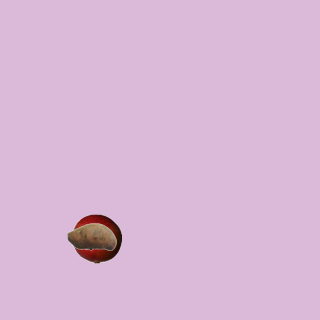Apple Braeburn: (71, 213, 121, 263)
Potato Sweet: (66, 211, 116, 261)
